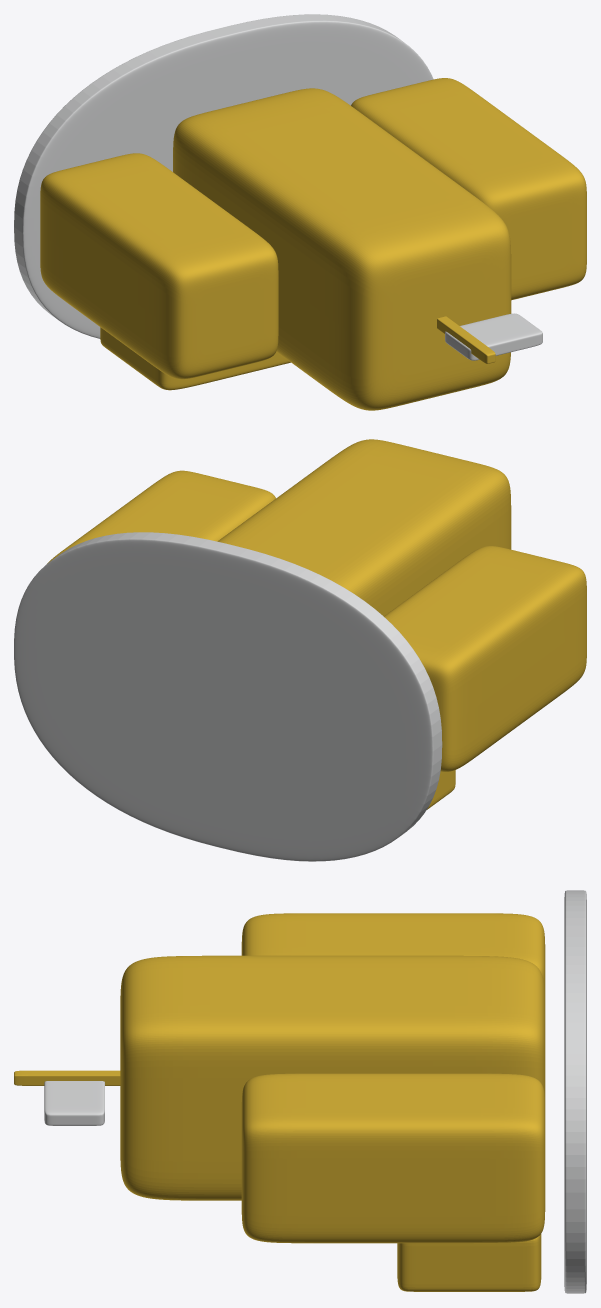
The model's file is sandcastle_sq.glb.
3 views of the same model, one above another, from view 1: azimuth 30°, elevation 25°; view 2: azimuth 150°, elevation 25°; view 3: azimuth 270°, elevation 25° (orthographic). The views are drawn at different scales.
Parts seen in each view (by area): view 1: superquadric_0, superquadric_1, superquadric_7, superquadric_2, superquadric_5, superquadric_3, superquadric_6; view 2: superquadric_7, superquadric_0, superquadric_1, superquadric_2; view 3: superquadric_0, superquadric_2, superquadric_1, superquadric_7, superquadric_3, superquadric_5, superquadric_6.
Boxes of the visible parts, bbox=[...] form: superquadric_0: bbox=[173, 88, 511, 410]; superquadric_1: bbox=[40, 153, 278, 379]; superquadric_7: bbox=[14, 14, 433, 338]; superquadric_2: bbox=[351, 78, 586, 300]; superquadric_5: bbox=[445, 313, 542, 360]; superquadric_3: bbox=[100, 327, 290, 390]; superquadric_6: bbox=[437, 316, 495, 363]; superquadric_7: bbox=[14, 532, 442, 861]; superquadric_0: bbox=[217, 439, 511, 616]; superquadric_1: bbox=[384, 546, 586, 771]; superquadric_2: bbox=[47, 470, 275, 563]; superquadric_0: bbox=[120, 955, 545, 1200]; superquadric_2: bbox=[241, 1073, 545, 1243]; superquadric_1: bbox=[241, 913, 545, 1002]; superquadric_7: bbox=[564, 890, 586, 1293]; superquadric_3: bbox=[397, 1234, 541, 1291]; superquadric_5: bbox=[44, 1081, 104, 1125]; superquadric_6: bbox=[14, 1070, 120, 1085].
Bounding box in the file's own units: 0.9006 × 0.6092 × 1.
